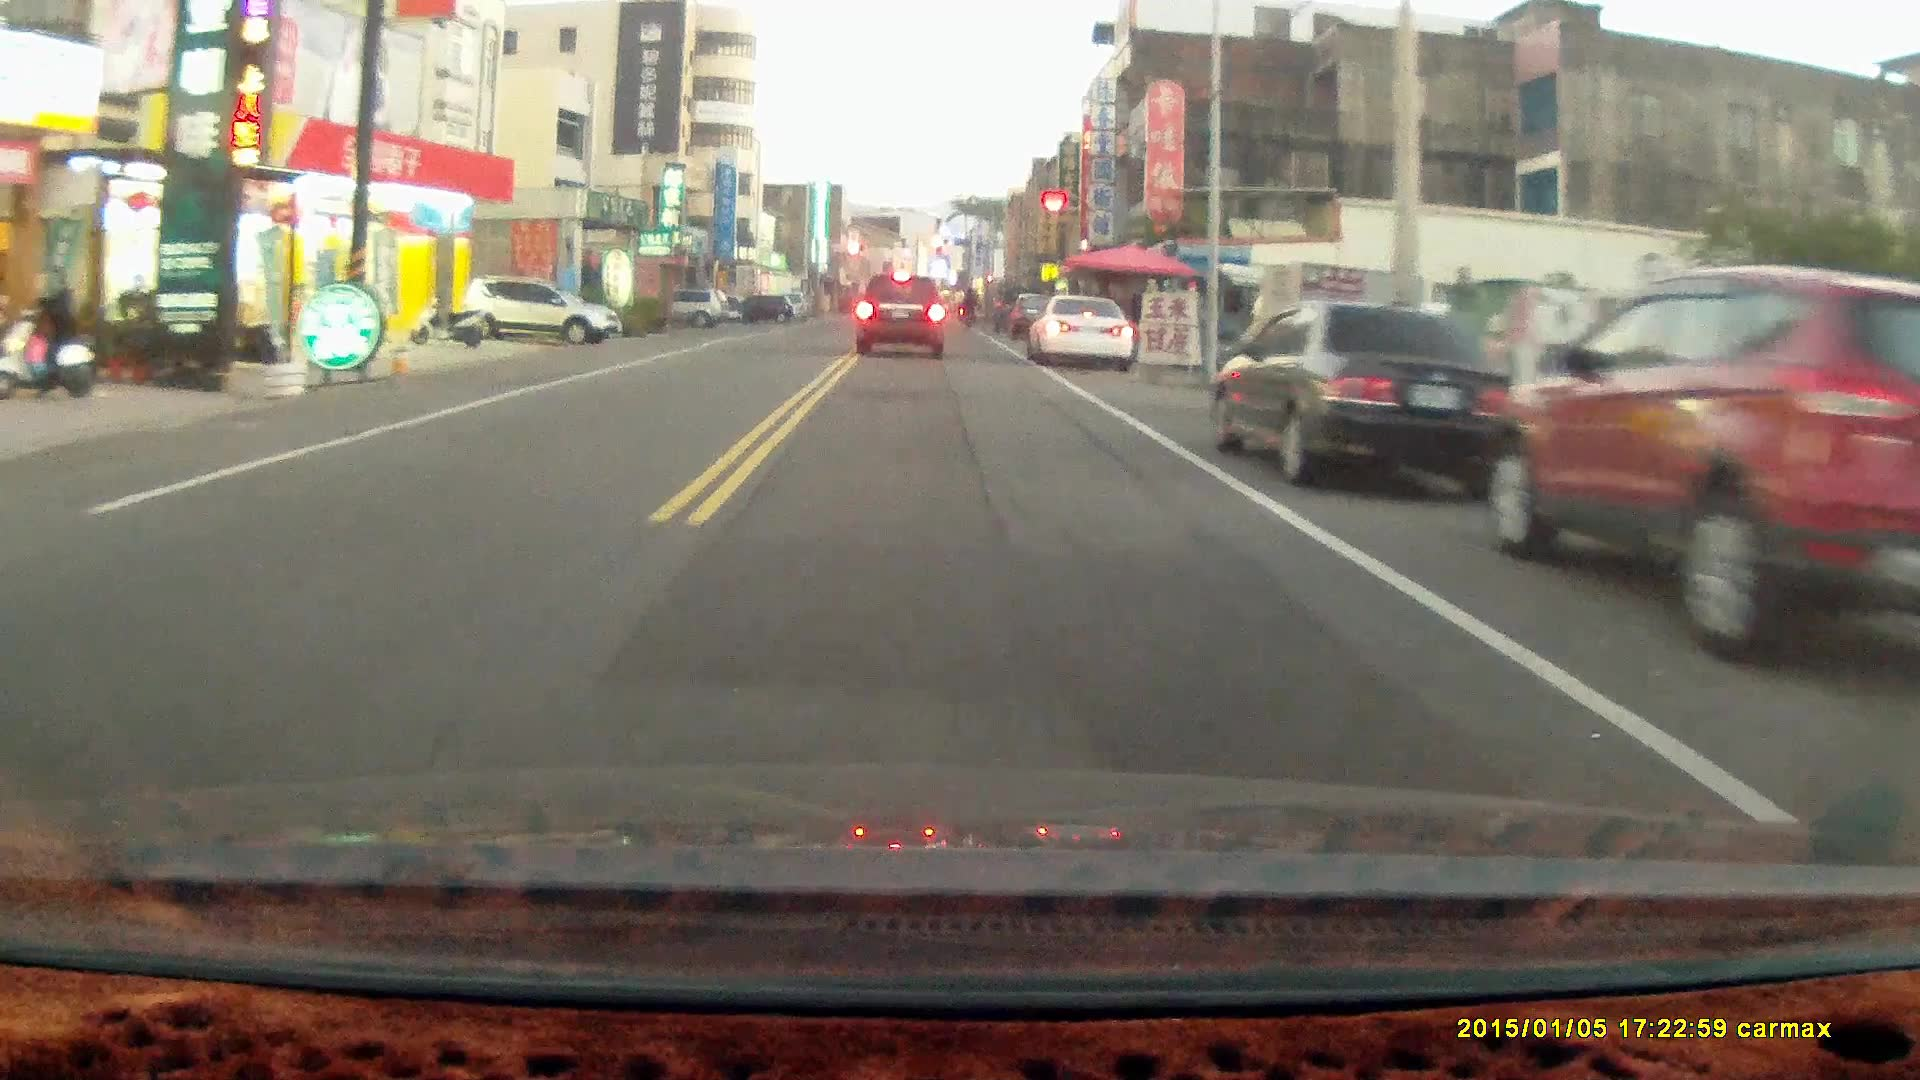vehicle: (1493, 261, 1920, 667), (1207, 299, 1524, 489), (463, 274, 626, 348), (1029, 295, 1139, 371), (855, 272, 947, 360)
